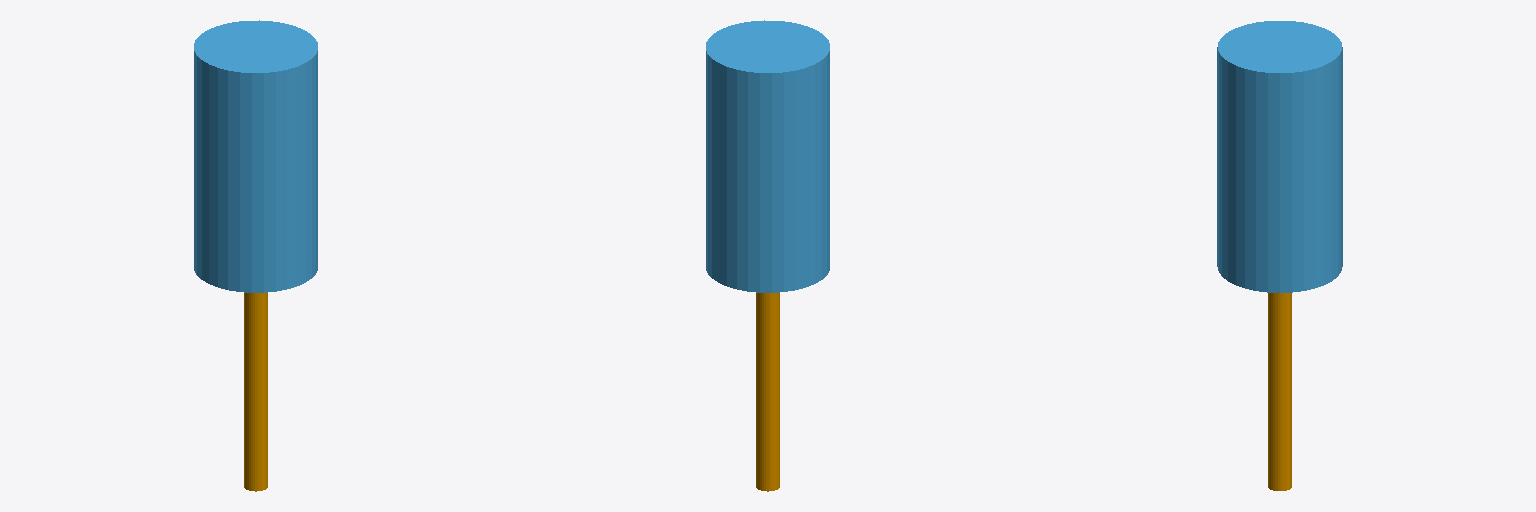
The robot description file, URDF, robot "screwdriver_on_the_table":
<?xml version="1.0" ?>
<!-- this is the one without any virtual joints and links -->
<robot name="screwdriver_on_the_table">
<link name="screwdriver_stick">
    <inertial>
      <mass value="0.05"/>
      <!-- <friction value="1.0"/> -->
      <inertia ixx="0.000041979" ixy="0.0" ixz="0.0" iyy="0.000041979" iyz="0.0" izz="0.000000625"/>
    </inertial>
    <visual>
        <origin rpy="0 0 0" xyz="0 0 0.05"/>
        <geometry>
            <cylinder radius="0.005" length="0.1"/>
        </geometry>
        <!-- <material name="White">
	 	    <color rgba="0.9 0.9 0.9 0.5"/>
        </material> -->
    </visual>
    <collision>
        <origin rpy="0 0 0" xyz="0 0 0.05"/>
        <geometry>
            <cylinder radius="0.005" length="0.1"/>
        </geometry>
    </collision>
</link>

<gazebo reference="screwdriver_body">
    <mu1>0.411317</mu1>
    <mu2>0.470610</mu2>
    <!-- Isaac Sim maps mu1/mu2 to PhysX static/dynamic friction during URDF→USD import -->
</gazebo>

<joint name="screwdriver_stick_body_joint" type="fixed">
    <parent link="screwdriver_stick"/>
    <child link="screwdriver_body"/>
    <origin rpy="0 0 0" xyz="0 0 0.1"/> 
    <axis xyz="0 0 1"/>
</joint>

<link name="screwdriver_body">
    <inertial>
      <mass value="0.185810"/>
      <inertia ixx="0.000185766" ixy="0.0" ixz="0.0" iyy="0.000185766" iyz="0.0" izz="0.000061848"/>
    </inertial>
    <visual>
        <origin rpy="0 0 0" xyz="0 0 0.05"/>
        <geometry>
            <cylinder radius="0.025801" length="0.1"/>
        </geometry>
        <!-- <material name="Red1">
	 	    <color rgba="0.9 0. 0. 0.5"/>
        </material> -->
    </visual>
    <collision>
        <origin rpy="0 0 0" xyz="0 0 0.05"/>
        <geometry>
            <cylinder radius="0.025801" length="0.1"/>
        </geometry>
    </collision>
</link>

<!-- <joint name="screwdriver_body_cap_joint" type="revolute">
    <parent link="screwdriver_body"/>
    <child link="screwdriver_cap"/>
    <origin rpy="0 0 0" xyz="0 0 0.1"/> 
    <axis xyz="0 0 1"/>
</joint>

<link name="screwdriver_cap">
    <inertial>
      <mass value="0.005"/>
      <inertia ixx="0.00001" ixy="0.0" ixz="0.0" iyy="0.000005" iyz="0.0" izz="0.000005"/>
    </inertial>
    <visual>
        <origin rpy="0 0 0" xyz="0 0 0.0006"/>
        <geometry>
            <cylinder radius="0.02" length="0.001"/>
        </geometry>
        <material name="Yellow">
	 	    <color rgba="0.9 0.9 0. 1.0"/>
        </material>
    </visual>
    <collision>
        <origin rpy="0 0 0" xyz="0 0 0.0005"/>
        <geometry>
            <cylinder radius="0.02" length="0.001"/>
        </geometry>
    </collision>
</link> -->

</robot>

--- Render facts (derived) ---
The picture shows the robot from 3 angles, left to right: view 1: azimuth 30°, elevation 25°; view 2: azimuth 150°, elevation 25°; view 3: azimuth 270°, elevation 25°; orthographic projection.
Model screwdriver_on_the_table with 2 links and 1 joints (1 fixed), rooted at screwdriver_stick, posed every joint at zero.
Links seen in each view (by area): view 1: screwdriver_body, screwdriver_stick; view 2: screwdriver_body, screwdriver_stick; view 3: screwdriver_body, screwdriver_stick.
Link boxes in pixels (bbox=[...]): screwdriver_body: bbox=[194, 20, 317, 292]; screwdriver_stick: bbox=[244, 293, 267, 491]; screwdriver_body: bbox=[706, 20, 829, 292]; screwdriver_stick: bbox=[756, 293, 779, 491]; screwdriver_body: bbox=[1217, 21, 1342, 292]; screwdriver_stick: bbox=[1268, 293, 1291, 490].
Bounding box of the posed robot: 0.0516 × 0.0516 × 0.2 m (x, y, z).
Geometry: primitives only (box / cylinder / sphere), no mesh files.
